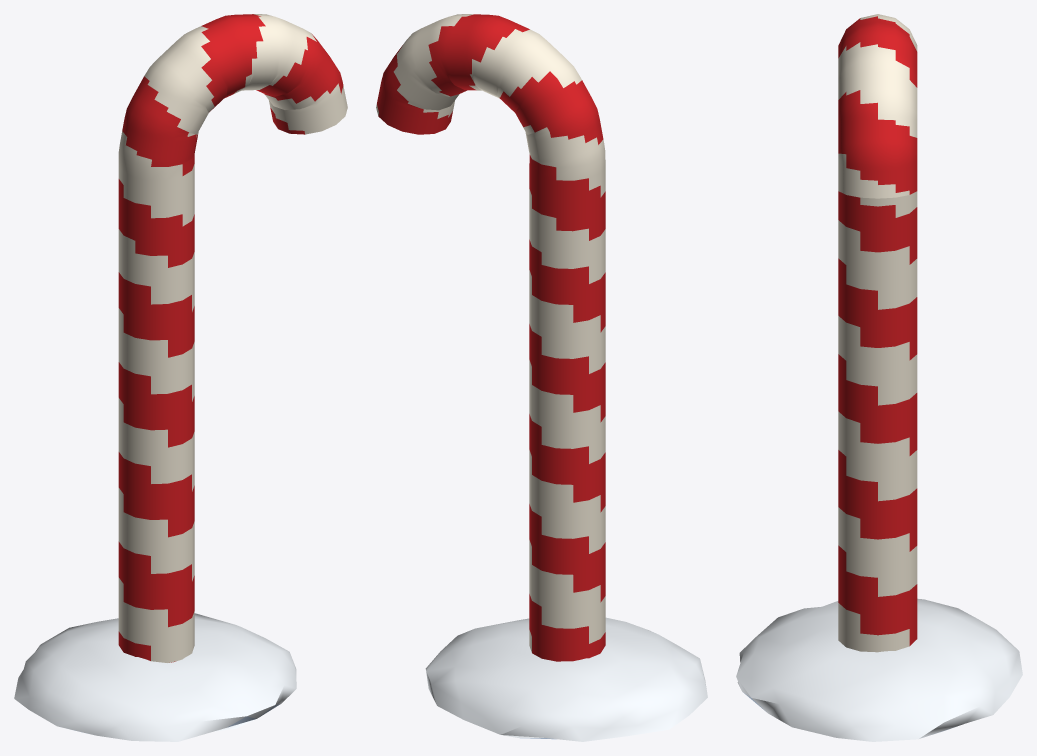
The model's file is CandyCane.fbx.
The picture shows the model from 3 angles, left to right: view 1: azimuth 30°, elevation 25°; view 2: azimuth 150°, elevation 25°; view 3: azimuth 270°, elevation 25°; orthographic projection. The views are drawn at different scales.
Visible parts, largest first — view 1: CandyCane; view 2: CandyCane; view 3: CandyCane.
Boxes of the visible parts, bbox=[...] form: CandyCane: bbox=[14, 14, 347, 741]; CandyCane: bbox=[376, 14, 707, 741]; CandyCane: bbox=[736, 14, 1022, 741].
Size of the model in its own units: 1.13 by 2.25 by 0.8489.
Materials: 1 (1 with a texture image).
